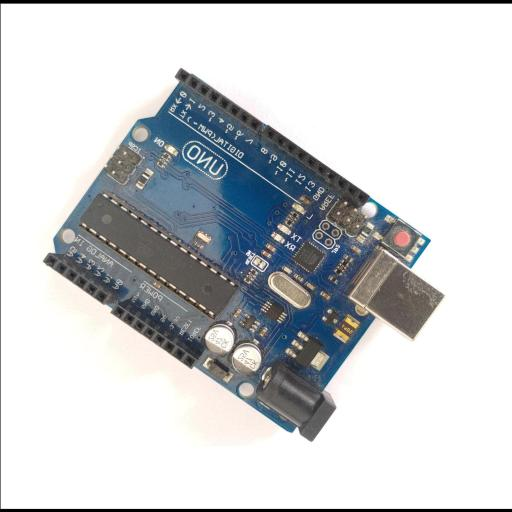Arduino Uno R3: (42, 67, 445, 442)
